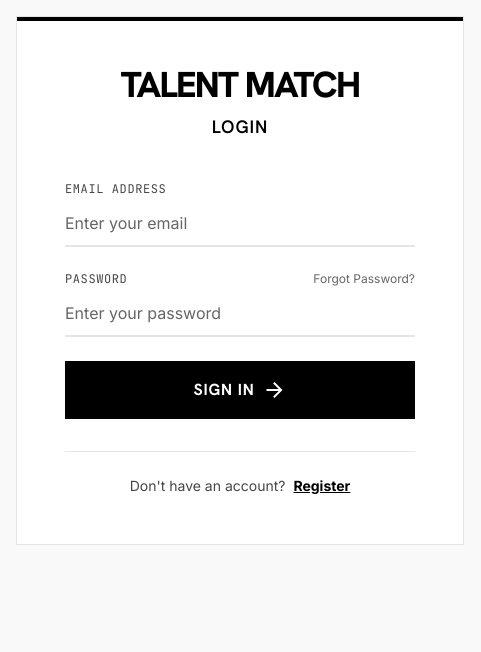
Scenario: Login Error Mapping › displays "Invalid credentials." title on HTTP 401
Type "user@talentmatch.com" into the field with placeholder "Enter your email" at [240, 224], box [65,201,415,247]
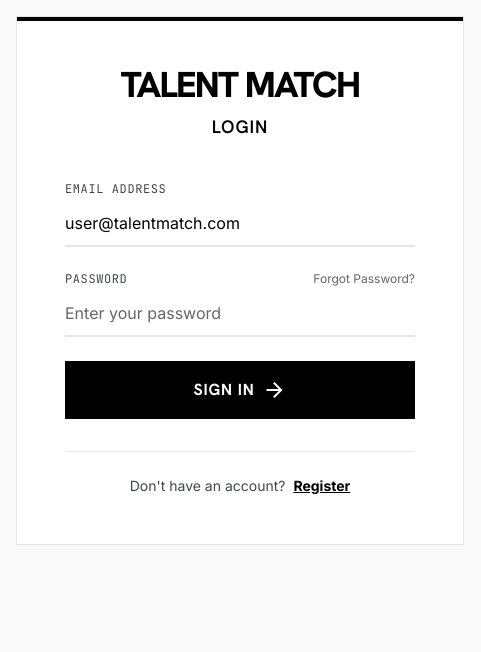
Type "password123" into the password field with placeholder "Enter your password" at [240, 314], box [65,291,415,337]
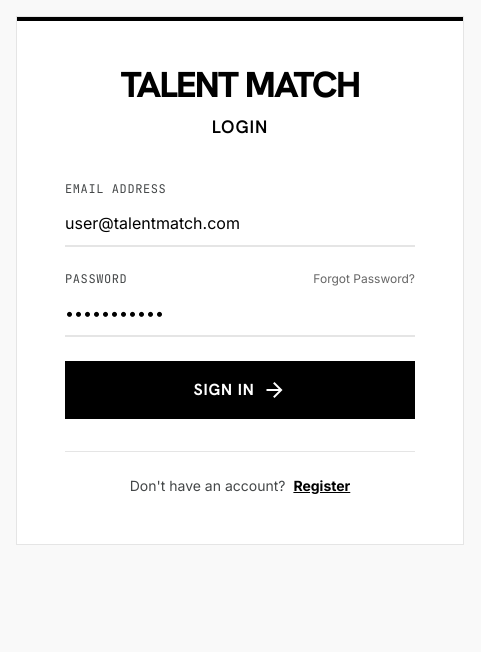
Click the button "SIGN IN" at [240, 390], box [65,361,415,419]
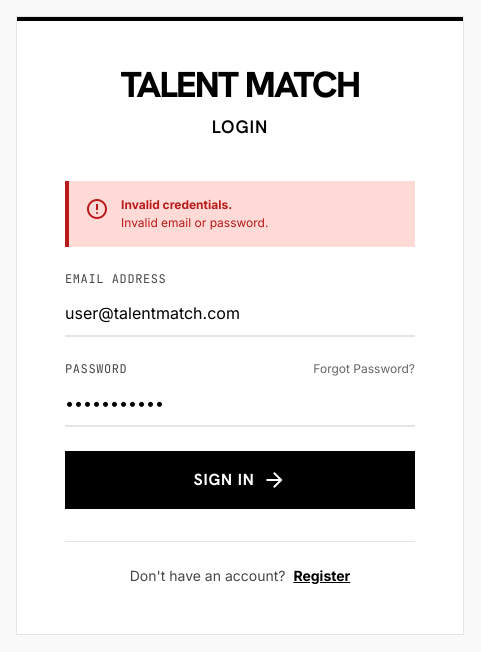
Expected: the text "Invalid credentials." is shown, [121,197,232,212]
Expected: the text "Invalid email or password." is shown, [121,215,268,231]
